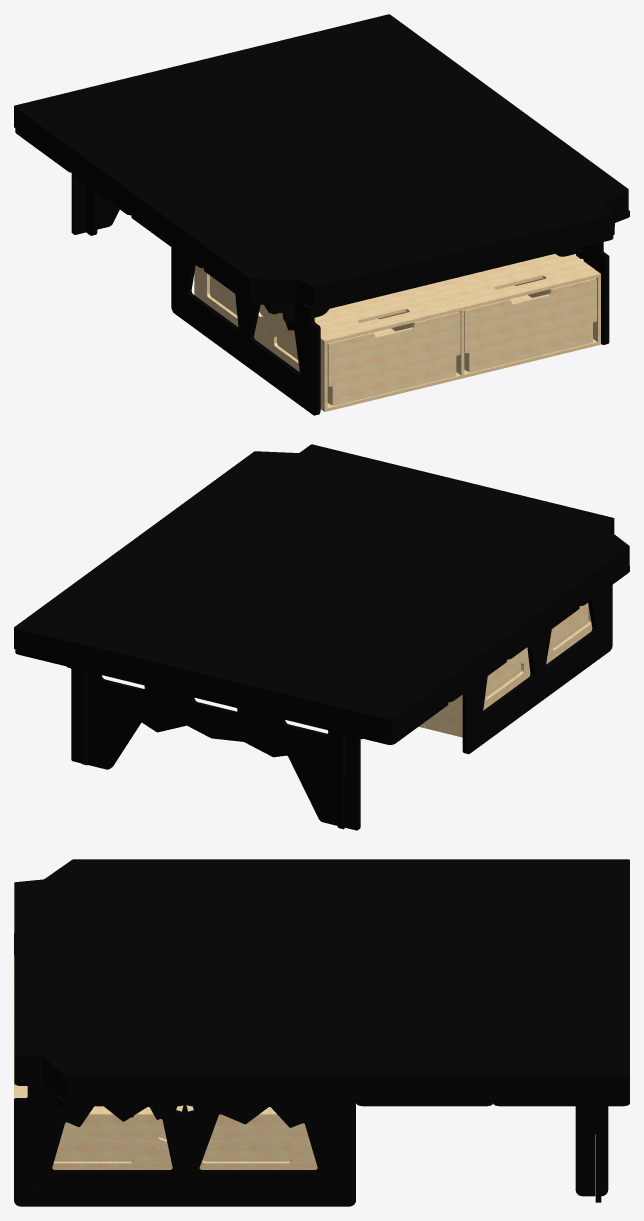
The model's file is Cuillin_expedition_couchage.glb.
3 renders of one model, top to bottom at view 1: azimuth 30°, elevation 25°; view 2: azimuth 150°, elevation 25°; view 3: azimuth 270°, elevation 25°, orthographic. The views are drawn at different scales.
Size of the model in its own units: 1.5 by 0.4976 by 1.8.
Materials: 2 (1 with a texture image).
